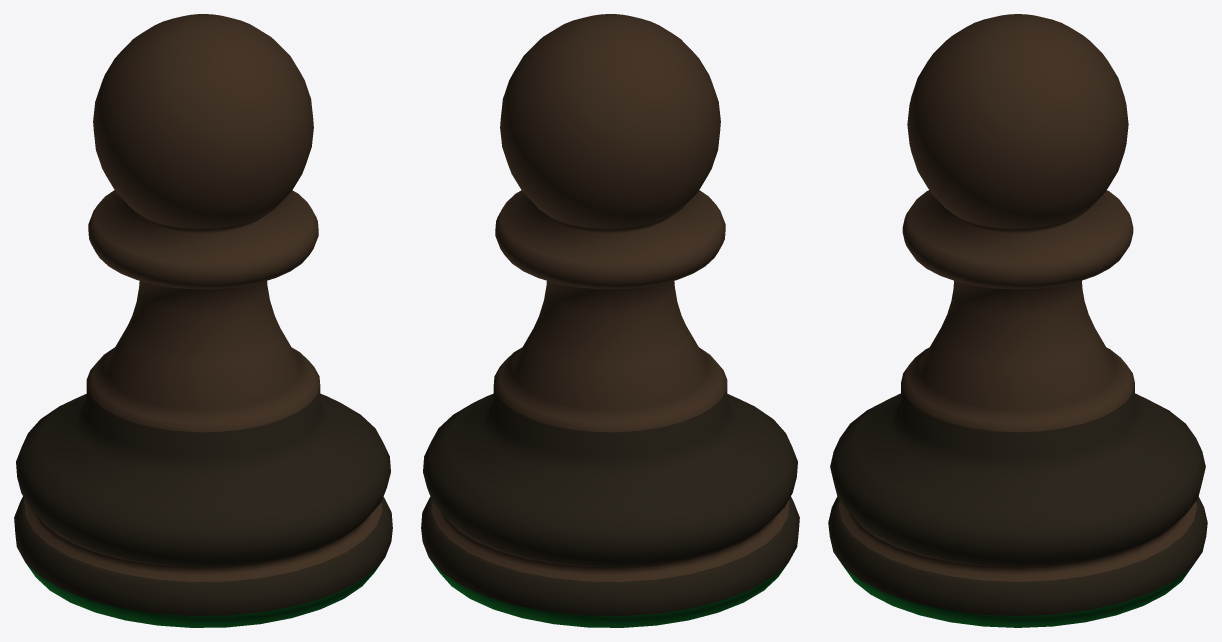
Rendered from PawnBlack.fbx.
The picture shows the model from 3 angles, left to right: view 1: azimuth 30°, elevation 25°; view 2: azimuth 150°, elevation 25°; view 3: azimuth 270°, elevation 25°; orthographic projection.
Visible parts, largest first — view 1: Black Pawn 5; view 2: Black Pawn 5; view 3: Black Pawn 5.
Part boxes in pixels (x1,y1,x2,y2): Black Pawn 5: (14, 14, 392, 627); Black Pawn 5: (421, 14, 799, 627); Black Pawn 5: (828, 14, 1207, 627).
Size of the model in its own units: 3.01 by 4.63 by 3.01.
